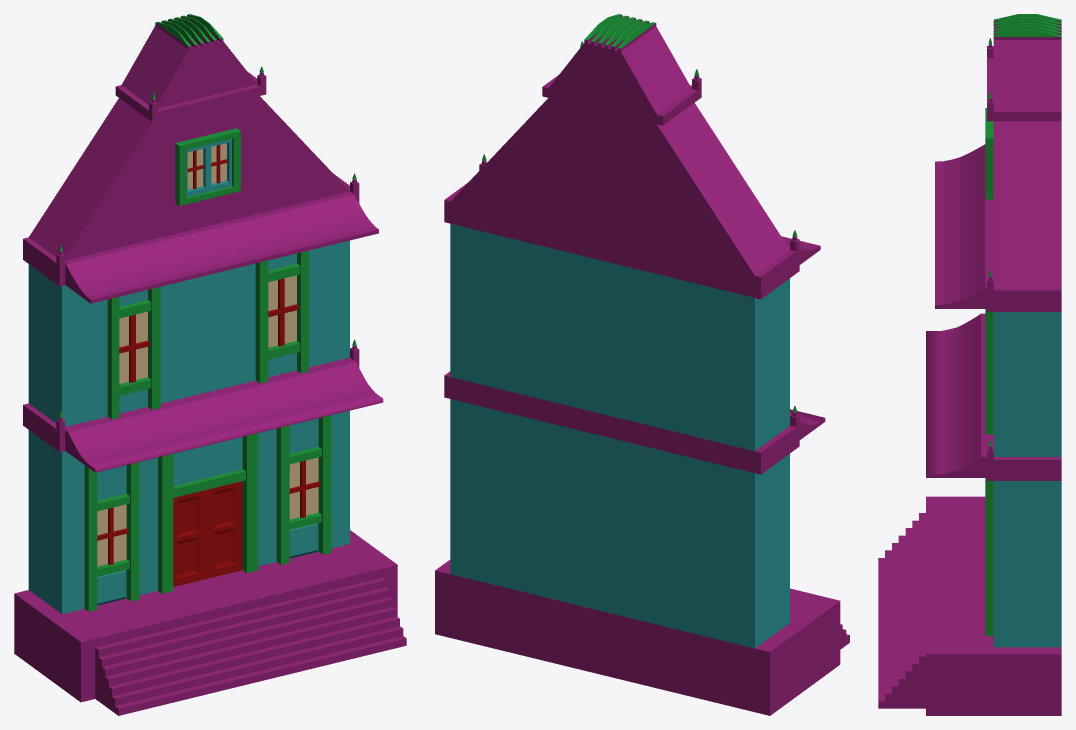
The model's file is Exterior.FBX.
The picture shows the model from 3 angles, left to right: view 1: azimuth 30°, elevation 25°; view 2: azimuth 150°, elevation 25°; view 3: azimuth 270°, elevation 25°; orthographic projection. The views are drawn at different scales.
Visible parts, largest first — view 1: Exterior; view 2: Exterior; view 3: Exterior.
Boxes of the visible parts, box(x1,y1,x2,y2) form: Exterior: box(14, 14, 406, 715); Exterior: box(435, 14, 849, 715); Exterior: box(878, 14, 1061, 715).
Size of the model in its own units: 11 by 5.4 by 20.
